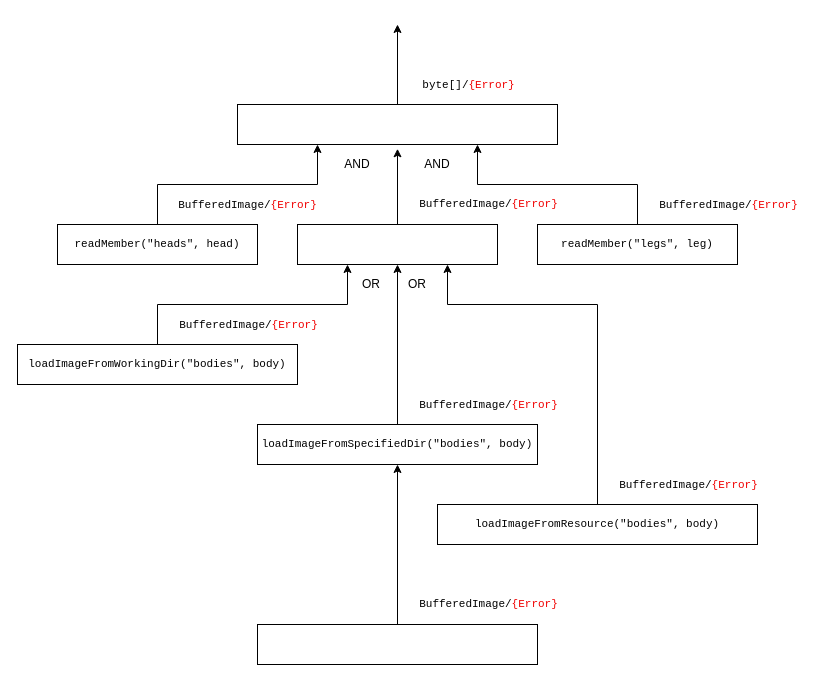
The diagram is 815 pixels wide and 682 high, and some of its shapes have lost their labels. The centre of each missing label's shape, as x and y in pixels:
bear(head, body, leg): the point at 397,124
loadImage(inputStream): the point at 397,644
readMember("bodies", body): the point at 397,244
